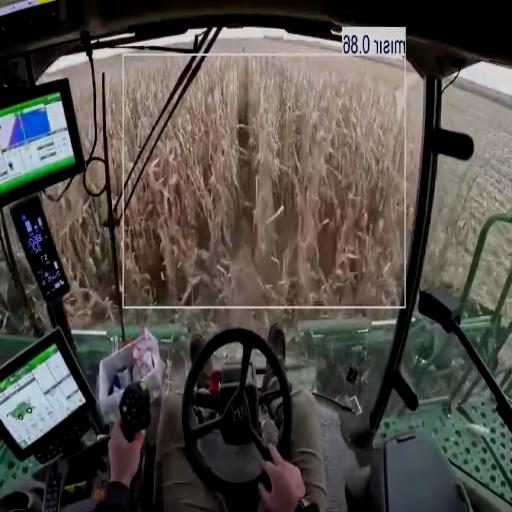misir: (125, 57, 423, 305), (49, 191, 114, 325), (124, 58, 187, 174)
